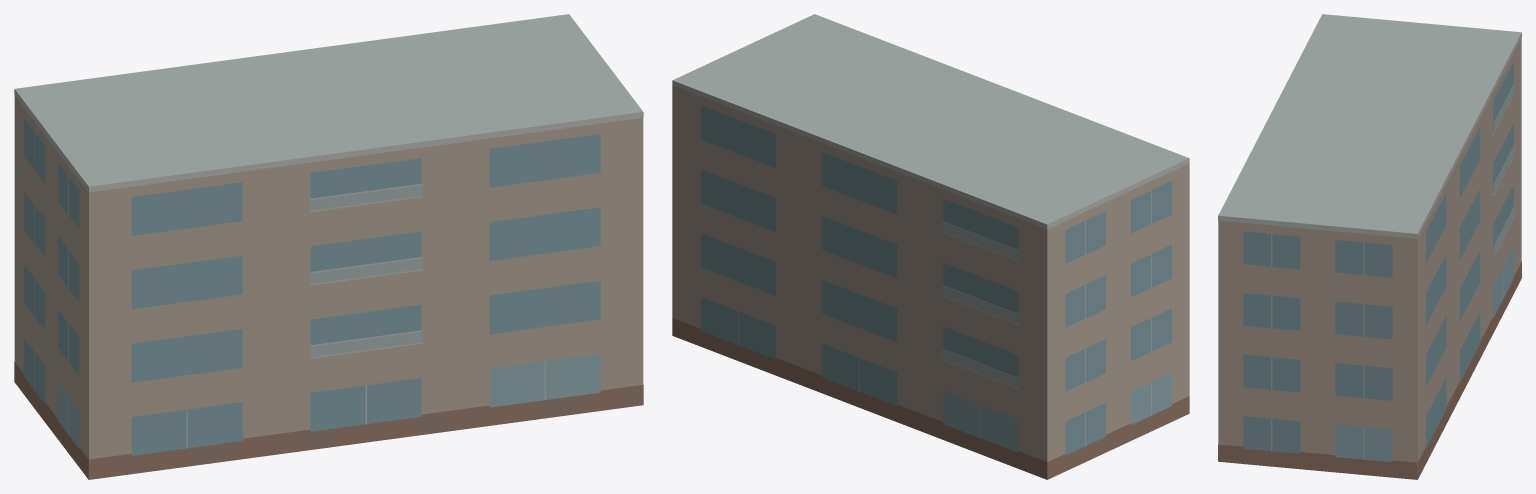
Rendered from survey-upis-32714750.glb.
3 views of the same model, side by side, from view 1: azimuth 30°, elevation 25°; view 2: azimuth 150°, elevation 25°; view 3: azimuth 270°, elevation 25° (orthographic). The views are drawn at different scales.
Parts seen in each view (by area): view 1: survey-upis-32714750.tmp; view 2: survey-upis-32714750.tmp; view 3: survey-upis-32714750.tmp.
Part boxes in pixels (left/top/right/bottom): survey-upis-32714750.tmp: left=14, top=14, right=643, bottom=479; survey-upis-32714750.tmp: left=672, top=14, right=1189, bottom=479; survey-upis-32714750.tmp: left=1218, top=14, right=1521, bottom=479.
Bounding box in the file's own units: 23.78 × 12.4 × 13.88.
